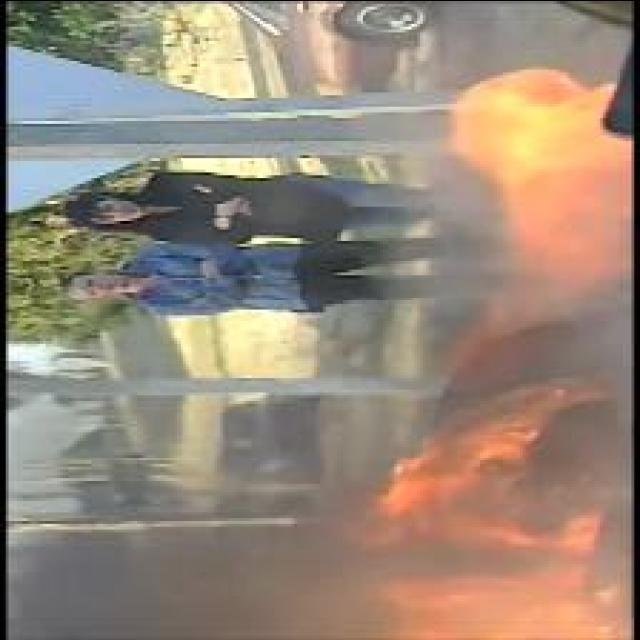Fire: (353, 374, 616, 640), (448, 65, 628, 288)
